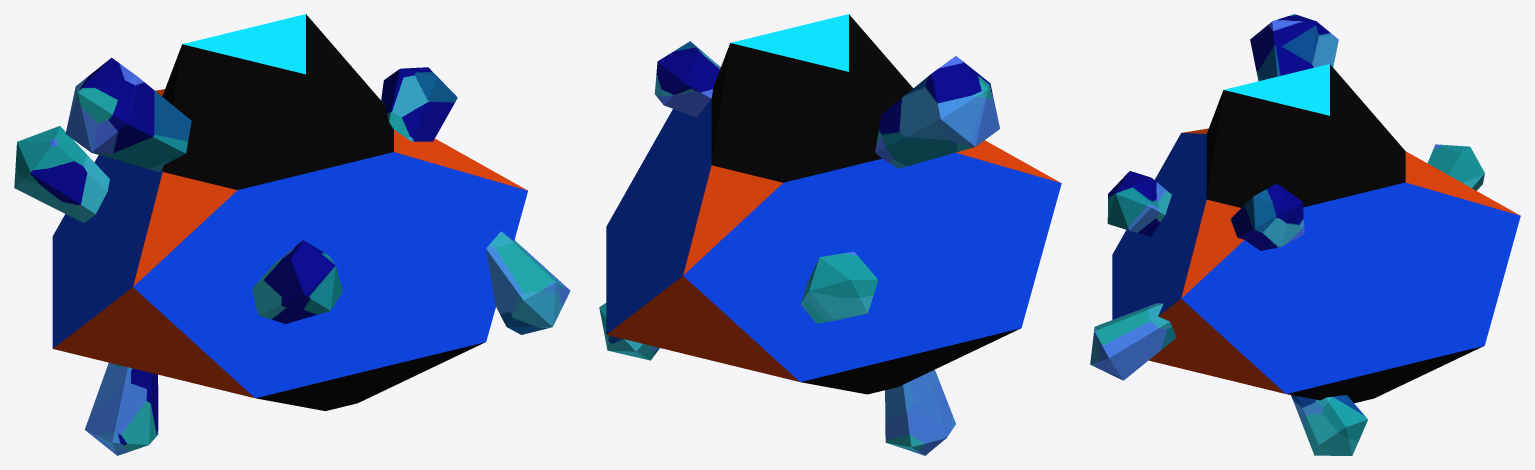
Rendered from crystal slime core.fbx.
The picture shows the model from 3 angles, left to right: view 1: azimuth 30°, elevation 25°; view 2: azimuth 150°, elevation 25°; view 3: azimuth 270°, elevation 25°; orthographic projection. The views are drawn at different scales.
Visible parts, largest first — view 1: Cone.001; view 2: Cone.001; view 3: Cone.001.
Boxes of the visible parts, x1,y1,x2,y2 form: Cone.001: [14, 14, 570, 455]; Cone.001: [599, 14, 1061, 455]; Cone.001: [1090, 14, 1520, 455].
Size of the model in its own units: 96.95 by 85.5 by 97.08.
